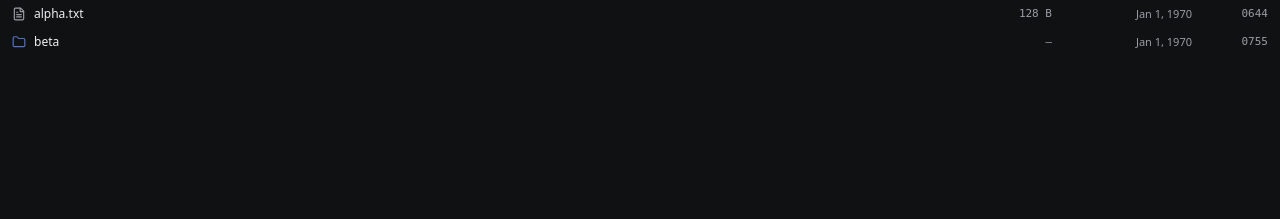
Test case: FileTable background menu › offers folder actions on the empty background
Right-click the table named "Folder contents": (59, 14) [0,0,1279,56]
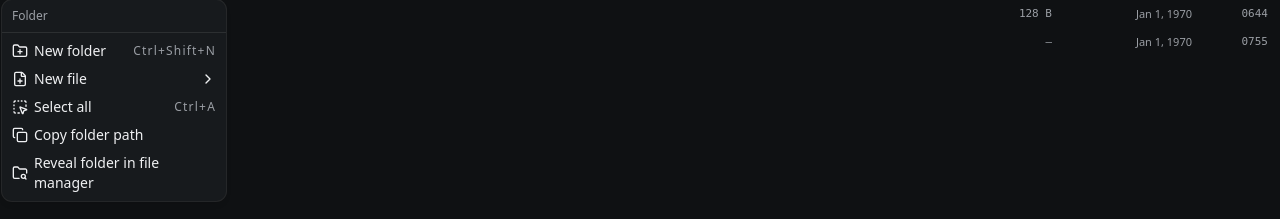
Now the menu item "New folder Ctrl+Shift+N" is shown, box [6,37,222,65]
Now the menu item "Select all Ctrl+A" is shown, box [6,93,222,121]
Now the menu item "Copy folder path" is shown, box [12,125,143,144]
